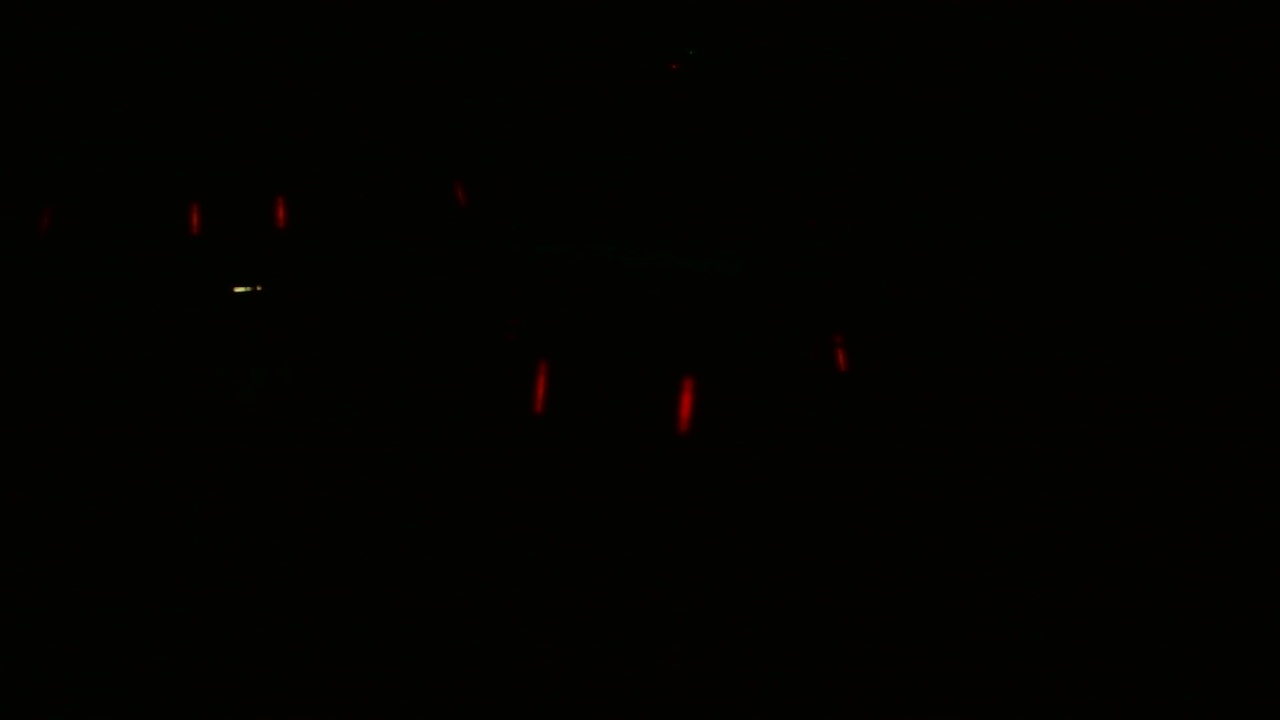pair1: (181, 192, 292, 240)
pair2: (530, 351, 701, 443)
